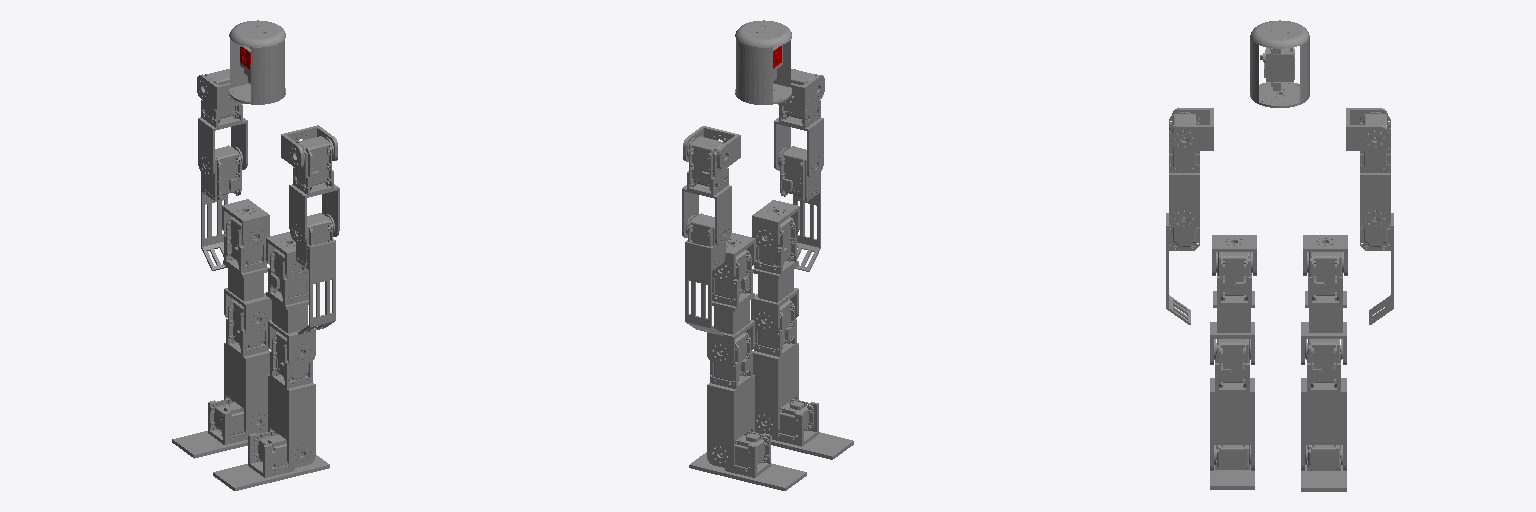
--- What the picture shows (computed from the rendered views, not written in the file) ---
Views: 3 orthographic renders of the robot side by side, from view 1: azimuth 30°, elevation 25°; view 2: azimuth 150°, elevation 25°; view 3: azimuth 270°, elevation 25°.
Model humanoid with 18 links and 17 joints (16 revolute, 1 fixed), rooted at base_link, posed every joint at zero.
Visible links, largest first — view 1: Left_Calf_Link, Right_Calf_Link, Head_Horizontal_Link, Right_Thigh_Link, Left_Thigh_Link, Left_Mid_Shoulder_Link, Left_Lower_Shoulder Link, Left_foot_Link, Right_Lower_Shoulder_link, Right_Mid_Shoulder_link, Right_Foot_Link, Right_Hip_Link (+3 smaller); view 2: Right_Calf_Link, Left_Calf_Link, Head_Horizontal_Link, Left_Thigh_Link, Right_Thigh_Link, Right_Mid_Shoulder_link, Right_Lower_Shoulder_link, Right_Foot_Link, Left_Lower_Shoulder Link, Left_foot_Link, Left_Mid_Shoulder_Link, Left_Hip_Link (+3 smaller); view 3: Right_Calf_Link, Left_Calf_Link, Right_Thigh_Link, Left_Thigh_Link, Head_Horizontal_Link, Left_Mid_Shoulder_Link, Right_Mid_Shoulder_link, Right_Foot_Link, Left_foot_Link, Left_Upper_Shoulder_link, Right_Upper_Shoulder_Link, Left_Lower_Shoulder Link (+4 smaller).
Boxes of the visible links, x1=… form: Left_Calf_Link: x1=268, y1=331, x2=315, y2=467; Right_Calf_Link: x1=224, y1=300, x2=269, y2=434; Head_Horizontal_Link: x1=229, y1=20, x2=285, y2=104; Right_Thigh_Link: x1=223, y1=216, x2=271, y2=333; Left_Thigh_Link: x1=266, y1=248, x2=315, y2=365; Left_Mid_Shoulder_Link: x1=289, y1=136, x2=339, y2=244; Left_Lower_Shoulder Link: x1=296, y1=213, x2=335, y2=334; Left_foot_Link: x1=213, y1=431, x2=329, y2=490; Right_Lower_Shoulder_link: x1=201, y1=145, x2=242, y2=270; Right_Mid_Shoulder_link: x1=198, y1=69, x2=247, y2=177; Right_Foot_Link: x1=172, y1=398, x2=259, y2=458; Right_Hip_Link: x1=222, y1=199, x2=269, y2=247; Right_Calf_Link: x1=707, y1=332, x2=754, y2=468; Left_Calf_Link: x1=753, y1=299, x2=798, y2=435; Head_Horizontal_Link: x1=735, y1=20, x2=791, y2=104; Left_Thigh_Link: x1=751, y1=217, x2=798, y2=333; Right_Thigh_Link: x1=707, y1=250, x2=754, y2=366; Right_Mid_Shoulder_link: x1=682, y1=136, x2=731, y2=245; Right_Lower_Shoulder_link: x1=685, y1=213, x2=725, y2=335; Right_Foot_Link: x1=689, y1=431, x2=806, y2=490; Left_Lower_Shoulder Link: x1=778, y1=146, x2=820, y2=271; Left_foot_Link: x1=755, y1=399, x2=853, y2=459; Left_Mid_Shoulder_Link: x1=774, y1=69, x2=823, y2=178; Left_Hip_Link: x1=752, y1=200, x2=799, y2=248; Right_Calf_Link: x1=1301, y1=339, x2=1346, y2=470; Left_Calf_Link: x1=1210, y1=339, x2=1254, y2=470; Right_Thigh_Link: x1=1301, y1=252, x2=1346, y2=364; Left_Thigh_Link: x1=1210, y1=252, x2=1254, y2=364; Head_Horizontal_Link: x1=1250, y1=20, x2=1309, y2=107; Left_Mid_Shoulder_Link: x1=1169, y1=112, x2=1199, y2=229; Right_Mid_Shoulder_link: x1=1360, y1=112, x2=1390, y2=229; Right_Foot_Link: x1=1301, y1=445, x2=1346, y2=491; Left_foot_Link: x1=1210, y1=445, x2=1254, y2=489; Left_Upper_Shoulder_link: x1=1172, y1=108, x2=1213, y2=150; Right_Upper_Shoulder_Link: x1=1346, y1=108, x2=1387, y2=150; Left_Lower_Shoulder Link: x1=1166, y1=210, x2=1199, y2=324.
Bounding box of the posed robot: 0.1501 × 0.2876 × 0.6137 m (x, y, z).
Meshes: 18 distinct files referenced, 17 mesh visuals loaded (17 binary STL); not drawn: 1 (reference not matched to a file when rendering).

The robot description file, URDF, robot "humanoid":
<?xml version="1.0" encoding="utf-8"?>


<robot name="humanoid">

<!-- gazebo materials -->

  <material name="black">
    <color rgba="0.0 0.0 0.0 1.0"/>
  </material>
  <material name="blue">
    <color rgba="0.0 0.0 0.8 1.0"/>
  </material>
  <material name="green">
    <color rgba="0.0 0.8 0.0 1.0"/>
  </material>
  <material name="grey">
    <color rgba="0.6 0.6 0.6 1.0"/>
  </material>
  <material name="orange">
    <color rgba="1.0 0.423529411765 0.0392156862745 1.0"/>
  </material>
  <material name="brown">
    <color rgba="0.870588235294 0.811764705882 0.764705882353 1.0"/>
  </material>
  <material name="red">
    <color rgba="0.8 0.0 0.0 1.0"/>
  </material>
  <material name="white">
    <color rgba="1.0 1.0 1.0 1.0"/>
  </material>

<!-- ros_control plugins -->

  <gazebo>
    <plugin name="gazebo_ros_control" filename="libgazebo_ros_control.so">
      <robotNamespace>/humanoid</robotNamespace> 
    </plugin> 
  </gazebo>

  <gazebo>
    <plugin filename="libgazebo_ros_p3d.so" name="ground_truth">
      <frameName>map</frameName>
      <bodyName>base_link</bodyName>
      <topicName>/humanoid/odom</topicName>
      <updateRate>100.0</updateRate>
    </plugin>
  </gazebo>

  <!-- World -->
  <gazebo reference="world"/>
  <!-- Map -->
  <gazebo reference="map"/>
  <!-- Base -->
  <gazebo reference="base_link"/>
  <!-- IMU -->
  <gazebo reference="imu_link"/>
  <!-- base -->
  <gazebo reference="base_link">
    <mu1>0.2</mu1>
    <mu2>0.2</mu2>
    <material>Gazebo/Grey</material>
    <selfCollide>false</selfCollide>
  </gazebo>

  <!-- Left Shoulder -->
  <gazebo reference="Left_Upper Shoulder_link">
    <mu1>0.2</mu1>
    <mu2>0.2</mu2>
    <material>Gazebo/Grey</material>
    <selfCollide>false</selfCollide>
  </gazebo>

  <gazebo reference="Left_Mid_Shoulder_Link">
    <mu1>0.2</mu1>
    <mu2>0.2</mu2>
    <material>Gazebo/Grey</material>
    <selfCollide>false</selfCollide>
  </gazebo>

  <gazebo reference="Left_Lower_Shoulder Link">
    <mu1>0.2</mu1>
    <mu2>0.2</mu2>
    <material>Gazebo/Grey</material>
    <selfCollide>false</selfCollide>
  </gazebo>

<!--Right Shoulder -->
  <gazebo reference="Right_Upper_Shoulder_Link">
    <mu1>0.2</mu1>
    <mu2>0.2</mu2>
    <material>Gazebo/Grey</material>
    <selfCollide>false</selfCollide>
  </gazebo>

  <gazebo reference="Right_Mid_Shoulder_link">
    <mu1>0.2</mu1>
    <mu2>0.2</mu2>
    <material>Gazebo/Grey</material>
    <selfCollide>false</selfCollide>
  </gazebo>

  <gazebo reference="Right_Lower_Shoulder_link">
    <mu1>0.2</mu1>
    <mu2>0.2</mu2>
    <material>Gazebo/Grey</material>
    <selfCollide>false</selfCollide>
  </gazebo>

<!--Right Leg -->
  <gazebo reference="Right_Hip_Link">
    <mu1>0.2</mu1>
    <mu2>0.2</mu2>
    <material>Gazebo/Grey</material>
    <selfCollide>false</selfCollide>
  </gazebo>

  <gazebo reference="Right_Thigh_Link">
    <mu1>0.2</mu1>
    <mu2>0.2</mu2>
    <material>Gazebo/Grey</material>
    <selfCollide>false</selfCollide>
  </gazebo>

  <gazebo reference="Right_Calf_Link Link">
    <mu1>0.2</mu1>
    <mu2>0.2</mu2>
    <material>Gazebo/Grey</material>
    <selfCollide>false</selfCollide>
  </gazebo>

  <gazebo reference="Right_Foot_Link">
    <kp>10000.0</kp>
    <kd>100.0</kd>
    <mu1>0.9</mu1>
    <mu2>0.9</mu2>
    <fdir1>1 1 0</fdir1>
    <maxVel>1.0</maxVel>
    <minDepth>0.0001</minDepth>
    <material>Gazebo/Blue</material>
  </gazebo>

<!-- Left Leg -->
  <gazebo reference="Left_Hip_Link">
    <mu1>0.2</mu1>
    <mu2>0.2</mu2>
    <material>Gazebo/Grey</material>
    <selfCollide>false</selfCollide>
  </gazebo>
  <gazebo reference="Left_Thigh_Link">
    <mu1>0.2</mu1>
    <mu2>0.2</mu2>
    <material>Gazebo/Grey</material>
    <selfCollide>false</selfCollide>
  </gazebo>
  <gazebo reference="Left_Calf_Link">
    <mu1>0.2</mu1>
    <mu2>0.2</mu2>
    <material>Gazebo/Grey</material>
    <selfCollide>false</selfCollide>
  </gazebo>
  <gazebo reference="Left_foot_Link">
    <kp>10000.0</kp>
    <kd>100.0</kd>
    <mu1>0.9</mu1>
    <mu2>0.9</mu2>
    <fdir1>1 1 0</fdir1>
    <maxVel>1.0</maxVel>
    <minDepth>0.0001</minDepth>
    <material>Gazebo/Blue</material>
  </gazebo>

<!-- head -->
  <gazebo reference="Head_Horizontal_Link">
    <mu1>0.2</mu1>
    <mu2>0.2</mu2>
    <material>Gazebo/Grey</material>
    <selfCollide>false</selfCollide>
  </gazebo>

  <gazebo reference="Head_Vertical_Link">
    <mu1>0.2</mu1>
    <mu2>0.2</mu2>
    <material>Gazebo/Grey</material>
    <selfCollide>false</selfCollide>
  </gazebo>


<!-- Base link -->
  <link
    name="base_link">
    <inertial>
      <origin xyz="0.0430324853400007 -0.000472436994687554 0.418875105300566" rpy="0 0 0" />
      <mass value="1.5156152965091" />
      <inertia
        ixx="0.00479971128253314"
        ixy="-1.53952738629959E-06"
        ixz="-0.000447300525972222"
        iyy="0.0034137294682176"
        iyz="-2.76941918796667E-06"
        izz="0.00294823153121814" />
    </inertial>
    <visual>
      <origin xyz="0 0 0" rpy="0 0 0" />
      <geometry>
        <mesh filename="package://humanoid_descripition/meshes/base_link.STL" />
      </geometry>
      <material name="grey"/>
    </visual>
    <collision>
      <origin
        xyz="0 0 0" rpy="0 0 0" />
      <geometry>
        <mesh filename="package://humanoid_descripition/meshes/base_link.STL" />
      </geometry>
    </collision>
  </link>
<!--Left upper shoulder link -->
  <link
    name="Left_Upper_Shoulder_link">
    <inertial>
      <origin xyz="-3.46944695195361E-18 -0.0155156048759658 -7.21644966006352E-16" rpy="0 0 0" />
      <mass value="0.0623876643494411" />
      <inertia ixx="2.27108792085224E-05" ixy="7.39334846754752E-21" ixz="-3.44731761197701E-21" iyy="3.90809536959519E-05" iyz="-1.53755655815756E-21"  izz="4.97719837636778E-05" />
    </inertial>
    <visual>
      <origin xyz="0 0 0" rpy="0 0 0" />
      <geometry>
        <mesh filename="package://humanoid_descripition/meshes/Left_Upper_Shoulder_link.STL" />
      </geometry>
      <material name="grey"/>
    </visual>
    <collision>
      <origin
        xyz="0 0 0" rpy="0 0 0" />
      <geometry>
        <mesh filename="package://humanoid_descripition/meshes/Left_Upper_Shoulder_link.STL" />
      </geometry>
    </collision>
  </link>

<!-- Left_Upper_Shoulder_Joint -->
  <joint
    name="Left_Upper_Shoulder_Joint" type="revolute">
    <origin xyz="0.045 -0.0862 0.48279"  rpy="0 0 0" />
    <parent link="base_link" />
    <child link="Left_Upper_Shoulder_link" />
    <axis xyz="0 -1 0" />
    <limit lower="-3.14" upper="3.14" effort="8.4" velocity="4.712" />
    <dynamics damping="0.1" friction="0.0"/>
  </joint>

<!-- Left_Upper_Shoulder_Transmission -->
  <transmission name="Left_Upper_Shoulder_transmission">
    <type>transmission_interface/SimpleTransmission</type>
    <joint name="Left_Upper_Shoulder_Joint">
      <hardwareInterface>hardware_interface/EffortJointInterface</hardwareInterface>
    </joint>
    <actuator name="Left_Upper_Shoulder_actuator">
      <hardwareInterface>hardware_interface/EffortJointInterface</hardwareInterface>
      <mechanicalReduction>1</mechanicalReduction>
    </actuator>
  </transmission>

  <link
    name="Left_Mid_Shoulder_Link">
    <inertial>
      <origin xyz="0.0264662969429448 4.09537062595611E-08 -0.0440571522217455" rpy="0 0 0" />
      <mass value="0.154300552543257" />
      <inertia
        ixx="7.07637535997255E-05"
        ixy="-5.19855697944797E-13"
        ixz="-2.88599141150469E-07"
        iyy="9.89041124781951E-05"
        iyz="2.76937890171708E-10"
        izz="6.2961859669379E-05" />
    </inertial>
    <visual>
      <origin xyz="0 0 0" rpy="0 0 0" />
      <geometry>
        <mesh filename="package://humanoid_descripition/meshes/Left_Mid_Shoulder_Link.STL" />
      </geometry>
      <material name="grey"/>
    </visual>
    <collision>
      <origin xyz="0 0 0" rpy="0 0 0" />
      <geometry>
        <mesh filename="package://humanoid_descripition/meshes/Left_Mid_Shoulder_Link.STL" />
      </geometry>
    </collision>
  </link>

<!-- Left_Mid_Shoulder_Joint -->
  <joint name="Left_Mid_Shoulder_Joint" type="revolute">
    <origin xyz="-0.026 -0.0345 0" rpy="0 0 0" />
    <parent link="Left_Upper_Shoulder_link" />
    <child link="Left_Mid_Shoulder_Link" />
    <axis xyz="1 0 0" />
    <limit lower="-3.14" upper="3.14" effort="6" velocity="6.59" />
  </joint>

<!-- Left Mid shoulder transmission -->
  <transmission name="Left_Mid_Shoulder_transmission">
    <type>transmission_interface/SimpleTransmission</type>
    <joint name="Left_Mid_Shoulder_Joint">
      <hardwareInterface>hardware_interface/EffortJointInterface</hardwareInterface>
    </joint>
    <actuator name="Left_Mid_Shoulder_actuator">
      <hardwareInterface>hardware_interface/EffortJointInterface</hardwareInterface>
      <mechanicalReduction>1</mechanicalReduction>
    </actuator>
  </transmission>

<!-- Left Lower Shoulder Link -->
  <link name="Left_Lower_Shoulder Link">
    <inertial>
      <origin xyz="0.0250664390388209 -0.00638333415263484 -0.0372443138205451" rpy="0 0 0" />
      <mass value="0.116130359952787" />
      <inertia
        ixx="0.000106554804819096"
        ixy="-5.19855704836473E-13"
        ixz="2.8859914115054E-07"
        iyy="0.000115041924032447"
        iyz="5.75846158471286E-06"
        izz="2.6449480887795E-05" />
    </inertial>
    <visual>
      <origin xyz="0 0 0" rpy="0 0 0" />
      <geometry>
        <mesh filename="package://humanoid_descripition/meshes/Left_Lower_Shoulder Link.STL" />
      </geometry>
      <material name="grey"/>
    </visual>
    <collision>
      <origin xyz="0 0 0" rpy="0 0 0" />
      <geometry>
        <mesh filename="package://humanoid_descripition/meshes/Left_Lower_Shoulder Link.STL" />
      </geometry>
    </collision>
  </link>

<!-- Left_Lower_Shoulder_Joint -->
  <joint name="Left_Lower_Shoulder_Joint" type="revolute">
    <origin xyz="0.00230000000000036 0 -0.111599999999999" rpy="0 0 0" />
    <parent link="Left_Mid_Shoulder_Link" />
    <child link="Left_Lower_Shoulder Link" />
    <axis xyz="1 0 0" />
    <limit lower="-3.14" upper="3.14" effort="6" velocity="6.59" />
  </joint>

<!-- Left_Lower_Shoulder_transmission-->
  <transmission name="Left_Lower_Shoulder_transmission">
    <type>transmission_interface/SimpleTransmission</type>
    <joint name="Left_Lower_Shoulder_Joint">
      <hardwareInterface>hardware_interface/EffortJointInterface</hardwareInterface>
    </joint>
    <actuator name="Left_Lower_Shoulder_actuator">
      <hardwareInterface>hardware_interface/EffortJointInterface</hardwareInterface>
      <mechanicalReduction>1</mechanicalReduction>
    </actuator>
  </transmission>
<!-- Right upper shoulder link -->
  <link name="Right_Upper_Shoulder_Link">
    <inertial>
      <origin xyz="-1.21430643318376E-17 0.015515604875966 -7.49400541621981E-16" rpy="0 0 0" />
      <mass value="0.0623876643494411" />
      <inertia
        ixx="2.27108792085224E-05"
        ixy="-1.28155332543922E-20"
        ixz="-1.24135449919456E-20"
        iyy="3.90809536959519E-05"
        iyz="-1.95476644554543E-22"
        izz="4.97719837636778E-05" />
    </inertial>
    <visual>
      <origin xyz="0 0 0" rpy="0 0 0" />
      <geometry>
        <mesh filename="package://humanoid_descripition/meshes/Right_Upper_Shoulder_Link.STL" />
      </geometry>
      <material name="grey"/>
    </visual>
    <collision>
      <origin xyz="0 0 0" rpy="0 0 0" />
      <geometry>
        <mesh filename="package://humanoid_descripition/meshes/Right_Upper_Shoulder_Link.STL" />
      </geometry>
    </collision>
  </link>

<!-- Right_Upper_Shoulder_Joint -->
  <joint name="Right_Upper_Shoulder_Joint" type="revolute">
    <origin xyz="0.045 0.0862000000000002 0.482793745640598" rpy="0 0 0" />
    <parent link="base_link" />
    <child link="Right_Upper_Shoulder_Link" />
    <axis xyz="0 1 0" />
    <limit lower="-3.14" upper="3.14" effort="8.4" velocity="4.712" />
  </joint>

<!-- Right_Upper_Shoulder_transmission -->
  <transmission name="Right_Upper_Shoulder_transmission">
    <type>transmission_interface/SimpleTransmission</type>
    <joint name="Right_Upper_Shoulder_Joint">
      <hardwareInterface>hardware_interface/EffortJointInterface</hardwareInterface>
    </joint>
    <actuator name="Right_Upper_Shoulder_actuator">
      <hardwareInterface>hardware_interface/EffortJointInterface</hardwareInterface>
      <mechanicalReduction>1</mechanicalReduction>
    </actuator>
  </transmission>
<!-- right mid shoulder link -->
  <link name="Right_Mid_Shoulder_link">
    <inertial>
      <origin xyz="0.0264662969429444 4.09537060375165E-08 -0.044057152221746" rpy="0 0 0" />
      <mass value="0.154300552543257" />
      <inertia
        ixx="7.07637535997256E-05"
        ixy="-5.19855694633109E-13"
        ixz="-2.88599141150464E-07"
        iyy="9.89041124781952E-05"
        iyz="2.76937890187698E-10"
        izz="6.29618596693791E-05" />
    </inertial>
    <visual>
      <origin xyz="0 0 0" rpy="0 0 0" />
      <geometry>
        <mesh filename="package://humanoid_descripition/meshes/Right_Mid_Shoulder_link.STL" />
      </geometry>
      <material
        name="grey"/>
    </visual>
    <collision>
      <origin xyz="0 0 0" rpy="0 0 0" />
      <geometry>
        <mesh filename="package://humanoid_descripition/meshes/Right_Mid_Shoulder_link.STL" />
      </geometry>
    </collision>
  </link>

<!-- Right_Mid_Shoulder_Joint -->
  <joint name="Right_Mid_Shoulder_Joint" type="revolute">
    <origin xyz="-0.026 0.0345 0" rpy="0 0 0" />
    <parent link="Right_Upper_Shoulder_Link" />
    <child link="Right_Mid_Shoulder_link" />
    <axis xyz="1 0 0" />
    <limit lower="-3.14" upper="3.14" effort="6" velocity="6.59" />
  </joint>

<!-- Right_Mid_Shoulder_transmission -->
  <transmission name="Right_Mid_Shoulder_transmission">
    <type>transmission_interface/SimpleTransmission</type>
    <joint name="Right_Mid_Shoulder_Joint">
      <hardwareInterface>hardware_interface/EffortJointInterface</hardwareInterface>
    </joint>
    <actuator name="Right_Mid_Shoulder_actuator">
      <hardwareInterface>hardware_interface/EffortJointInterface</hardwareInterface>
      <mechanicalReduction>1</mechanicalReduction>
    </actuator>
  </transmission>

<!-- Right Lower Shoulder -->
  <link
    name="Right_Lower_Shoulder_link">
    <inertial>
      <origin xyz="0.0250664390388211 0.00638333374995644 -0.0372443138205444" rpy="0 0 0" />
      <mass value="0.116130359952787" />
      <inertia
        ixx="0.000106554804819096"
        ixy="-5.19855699251492E-13"
        ixz="2.88599141150526E-07"
        iyy="0.000115041924032448"
        iyz="-5.75845724996921E-06"
        izz="2.64494808877951E-05" />
    </inertial>
    <visual>
      <origin xyz="0 0 0" rpy="0 0 0" />
      <geometry>
        <mesh filename="package://humanoid_descripition/meshes/Right_Lower_Shoulder_link.STL" />
      </geometry>
      <material name="grey"/>
    </visual>
    <collision>
      <origin xyz="0 0 0" rpy="0 0 0" />
      <geometry>
        <mesh filename="package://humanoid_descripition/meshes/Right_Lower_Shoulder_link.STL" />
      </geometry>
    </collision>
  </link>

<!-- Right_Lower_Shoulder_joint -->
  <joint name="Right_Lower_Shoulder_Joint" type="revolute">
    <origin xyz="0.00230000000000011 0 -0.1116" rpy="0 0 0" />
    <parent link="Right_Mid_Shoulder_link" />
    <child link="Right_Lower_Shoulder_link" />
    <axis xyz="1 0 0" />
    <limit lower="-3.14" upper="3.14" effort="6" velocity="6.59" />
  </joint>

<!-- Right_Lower_Shoulder_transmission -->
  <transmission name="Right_Lower_Shoulder_transmission">
    <type>transmission_interface/SimpleTransmission</type>
    <joint name="Right_Lower_Shoulder_Joint">
      <hardwareInterface>hardware_interface/EffortJointInterface</hardwareInterface>
    </joint>
    <actuator name="Right_Lower_Shoulder_actuator">
      <hardwareInterface>hardware_interface/EffortJointInterface</hardwareInterface>
      <mechanicalReduction>1</mechanicalReduction>
    </actuator>
  </transmission>

<!--Right Hip Link -->

  <link name="Right_Hip_Link">
    <inertial>
      <origin xyz="-1.90819582357449E-17 8.5868812060852E-17 -0.0108026519831324" rpy="0 0 0" />
      <mass value="0.0642422648022387" />
      <inertia
        ixx="4.229626009049E-05"
        ixy="-2.85610366578733E-21"
        ixz="-1.1809768368682E-20"
        iyy="1.91108022562779E-05"
        iyz="-6.6452799051975E-21"
        izz="4.09654383516233E-05" />
    </inertial>
    <visual>
      <origin xyz="0 0 0" rpy="0 0 0" />
      <geometry>
        <mesh filename="package://humanoid_descripition/meshes/Right_Hip_Link.STL" />
      </geometry>
      <material name="grey" />
    </visual>
    <collision>
      <origin xyz="0 0 0" rpy="0 0 0" />
      <geometry>
        <mesh filename="package://humanoid_descripition/meshes/Right_Hip_Link.STL" />
      </geometry>
    </collision>
  </link>

<!-- Right_Hip_Joint -->
  <joint name="Right_Hip_Joint" type="revolute">
    <origin xyz="0.045 0.0576361191366068 0.323180000000002" rpy="0 0 0" />
    <parent link="base_link" />
    <child link="Right_Hip_Link" />
    <axis xyz="0 0 1" />
    <limit lower="-3.14" upper="3.14" effort="8.4" velocity="4.712" />
  </joint>

<!-- Right_Hip_Joint_transmission -->
  <transmission name="Right_Hip_Joint_transmission">
    <type>transmission_interface/SimpleTransmission</type>
    <joint name="Right_Hip_Joint">
      <hardwareInterface>hardware_interface/EffortJointInterface</hardwareInterface>
    </joint>
    <actuator name="Right_Hip_Joint_motor">
      <hardwareInterface>hardware_interface/EffortJointInterface</hardwareInterface>
      <mechanicalReduction>1</mechanicalReduction>
    </actuator>
  </transmission>
<!-- Right Thigh Link -->
  <link name="Right_Thigh_Link">
    <inertial>
      <origin xyz="0.000423342095901284 -0.026447064925249 -0.0636339184538543" rpy="0 0 0" />
      <mass value="0.329164377734902" />
      <inertia
        ixx="0.000243462631907648"
        ixy="2.02833424750188E-07"
        ixz="4.17202887012631E-06"
        iyy="0.000198542286401605"
        iyz="-4.45660040213608E-06"
        izz="0.000113461408846216" />
    </inertial>
    <visual>
      <origin xyz="0 0 0" rpy="0 0 0" />
      <geometry>
        <mesh filename="package://humanoid_descripition/meshes/Right_Thigh_Link.STL" />
      </geometry>
      <material name="grey"/>
    </visual>
    <collision>
      <origin xyz="0 0 0" rpy="0 0 0" />
      <geometry>
        <mesh filename="package://humanoid_descripition/meshes/Right_Thigh_Link.STL" />
      </geometry>
    </collision>
  </link>

<!-- Right_Thigh_Joint -->
  <joint name="Right_Thigh_Joint" type="revolute">
    <origin xyz="0 0.026 -0.025" rpy="0 0 0" />
    <parent link="Right_Hip_Link" />
    <child link="Right_Thigh_Link" />
    <axis xyz="0 1 0" />
    <limit lower="-3.14" upper="3.14" effort="6" velocity="6.59" />
  </joint>

<!-- Right_Thigh_Joint_transmission -->
  <transmission name="Right_Thigh_Joint_transmission">
    <type>transmission_interface/SimpleTransmission</type>
    <joint name="Right_Thigh_Joint">
      <hardwareInterface>hardware_interface/EffortJointInterface</hardwareInterface>
    </joint>
    <actuator name="Right_Thigh_Joint_motor">
      <hardwareInterface>hardware_interface/EffortJointInterface</hardwareInterface>
      <mechanicalReduction>1</mechanicalReduction>
    </actuator>
  </transmission>

<!-- Right Calf Link -->

  <link name="Right_Calf_Link">
    <inertial>
      <origin xyz="-3.34420367410423E-07 -0.026027708615202 -0.0719996537867291" rpy="0 0 0" />
      <mass value="0.278454532534902" />
      <inertia
        ixx="0.000388064654467613"
        ixy="5.19855683036761E-13"
        ixz="5.41021302044064E-09"
        iyy="0.00033610996778635"
        iyz="-2.88599141150599E-07"
        izz="0.00014525331851066" />
    </inertial>
    <visual>
      <origin xyz="0 0 0" rpy="0 0 0" />
      <geometry>
        <mesh filename="package://humanoid_descripition/meshes/Right_Calf_Link.STL" />
      </geometry>
      <material name="grey"/>
    </visual>
    <collision>
      <origin xyz="0 0 0" rpy="0 0 0" />
      <geometry>
        <mesh filename="package://humanoid_descripition/meshes/Right_Calf_Link.STL" />
      </geometry>
    </collision>
  </link>

<!-- Right_Calf_Joint -->
  <joint name="Right_Calf_Joint" type="revolute">
    <origin xyz="0.002 -0.002 -0.12045" rpy="0 0 0" />
    <parent link="Right_Thigh_Link" />
    <child link="Right_Calf_Link" />
    <axis xyz="0 -1 0" />
    <limit lower="-3.14" upper="3.14" effort="6" velocity="6.59" />
  </joint>

<!-- Right_Calf_Joint_transmission -->
  <transmission name="Right_Calf_Joint_transmission">
    <type>transmission_interface/SimpleTransmission</type>
    <joint name="Right_Calf_Joint">
      <hardwareInterface>hardware_interface/EffortJointInterface</hardwareInterface>
    </joint>
    <actuator name="Right_Calf_Joint_motor">
      <hardwareInterface>hardware_interface/EffortJointInterface</hardwareInterface>
      <mechanicalReduction>1</mechanicalReduction>
    </actuator>
  </transmission>
<!-- Right Foot Link -->

  <link name="Right_Foot_Link">
    <inertial>
      <origin xyz="-0.0228837014877897 -0.026033712987681 -0.0155273675416017" rpy="0 0 0" />
      <mass value="0.228265252831077" />
      <inertia
        ixx="6.37874197438039E-05"
        ixy="-2.88491769040962E-07"
        ixz="7.76246022841811E-06"
        iyy="0.000236185068163753"
        iyz="-2.63248093227894E-09"
        izz="0.000274017281441223" />
    </inertial>
    <visual>
      <origin xyz="0 0 0"  rpy="0 0 0" />
      <geometry>
        <mesh filename="package://humanoid_descripition/meshes/Right_Foot_Link.STL" />
      </geometry>
      <material name="grey"/>
    </visual>
    <collision>
      <origin xyz="0 0 0" rpy="0 0 0" />
      <geometry>
        <mesh filename="package://humanoid_descripition/meshes/Right_Foot_Link.STL" />
      </geometry>
    </collision>
  </link>

<!-- Right_Foot_Joint -->
  <joint name="Right_Foot_Joint" type="revolute">
    <origin xyz="0 0 -0.14763" rpy="0 0 0" />
    <parent link="Right_Calf_Link" />
    <child link="Right_Foot_Link" />
    <axis xyz="0 1 0" />
    <limit lower="-3.14" upper="3.14" effort="6" velocity="6.59" />
  </joint>

<!-- Right_Foot_Joint_transmission -->
  <transmission name="Right_Foot_Joint_transmission">
    <type>transmission_interface/SimpleTransmission</type>
    <joint name="Right_Foot_Joint">
      <hardwareInterface>hardware_interface/EffortJointInterface</hardwareInterface>
    </joint>
    <actuator name="Right_Foot_Joint_motor">
      <hardwareInterface>hardware_interface/EffortJointInterface</hardwareInterface>
      <mechanicalReduction>1</mechanicalReduction>
    </actuator>
  </transmission>
<!-- Left Hip Link -->
  <link name="Left_Hip_Link">
    <inertial>
      <origin xyz="-1.21430643318376E-17 1.38777878078145E-17 -0.0108026519831324" rpy="0 0 0" />
      <mass value="0.0642422648022388" />
      <inertia
        ixx="4.22962600904901E-05"
        ixy="-2.93588493303712E-21"
        ixz="-1.50763911535534E-20"
        iyy="1.9110802256278E-05"
        iyz="-3.29932625471404E-20"
        izz="4.09654383516233E-05" />
    </inertial>
    <visual>
      <origin xyz="0 0 0" rpy="0 0 0" />
      <geometry>
        <mesh filename="package://humanoid_descripition/meshes/Left_Hip_Link.STL" />
      </geometry>
      <material name="grey"/>
    </visual>
    <collision>
      <origin xyz="0 0 0" rpy="0 0 0" />
      <geometry>
        <mesh filename="package://humanoid_descripition/meshes/Left_Hip_Link.STL" />
      </geometry>
    </collision>
  </link>

<!-- Left_Hip_Joint -->
  <joint name="Left_Hip_Joint" type="revolute">
    <origin xyz="0.045 -0.0576361191366066 0.323180000000002" rpy="0 0 0" />
    <parent link="base_link" />
    <child link="Left_Hip_Link" />
    <axis xyz="0 0 1" />
    <limit lower="-3.14" upper="3.14" effort="8.4" velocity="4.712" />
  </joint>

<!-- Left_Hip_Joint_transmission -->
  <transmission name="Left_Hip_Joint_transmission">
    <type>transmission_interface/SimpleTransmission</type>
    <joint name="Left_Hip_Joint">
      <hardwareInterface>hardware_interface/EffortJointInterface</hardwareInterface>
    </joint>
    <actuator name="Left_Hip_Joint_motor">
      <hardwareInterface>hardware_interface/EffortJointInterface</hardwareInterface>
      <mechanicalReduction>1</mechanicalReduction>
    </actuator>
  </transmission>

<!-- Left Thigh Link -->
  <link name="Left_Thigh_Link">
    <inertial>
      <origin xyz="0.000345721545497979 0.0255998149318385 -0.0636339184538543" rpy="0 0 0" />
      <mass value="0.329164377734902" />
      <inertia
        ixx="0.000243462631907648"
        ixy="2.02833424750158E-07"
        ixz="4.17202453538254E-06"
        iyy="0.000198542286401605"
        iyz="-3.87940211983504E-06"
        izz="0.000113461408846216" />
    </inertial>
    <visual>
      <origin xyz="0 0 0" rpy="0 0 0" />
      <geometry>
        <mesh filename="package://humanoid_descripition/meshes/Left_Thigh_Link.STL" />
      </geometry>
      <material name="grey"/>
    </visual>
    <collision>
      <origin xyz="0 0 0" rpy="0 0 0" />
      <geometry>
        <mesh filename="package://humanoid_descripition/meshes/Left_Thigh_Link.STL" />
      </geometry>
    </collision>
  </link>

<!-- Left_Thigh_joint -->
  <joint name="Left_Thigh_joint" type="revolute">
    <origin xyz="0 -0.026 -0.025" rpy="0 0 0" />
    <parent link="Left_Hip_Link" />
    <child link="Left_Thigh_Link" />
    <axis xyz="0 1 0" />
    <limit lower="-3.14" upper="3.14" effort="6" velocity="6.59" />
  </joint>

<!-- Left_Thigh_joint_transmission -->
  <transmission name="Left_Thigh_joint_transmission">
    <type>transmission_interface/SimpleTransmission</type>
    <joint name="Left_Thigh_joint">
      <hardwareInterface>hardware_interface/EffortJointInterface</hardwareInterface>
    </joint>
    <actuator name="Left_Thigh_joint_motor">
      <hardwareInterface>hardware_interface/EffortJointInterface</hardwareInterface>
      <mechanicalReduction>1</mechanicalReduction>
    </actuator>
  </transmission>

  <link name="Left_Calf_Link">
    <inertial>
      <origin xyz="-3.34420367405219E-07 0.0259722913847975 -0.0719996537867291" rpy="0 0 0" />
      <mass value="0.278454532534902" />
      <inertia
        ixx="0.000388064654467613"
        ixy="5.19855688294565E-13"
        ixz="5.41021302046885E-09"
        iyy="0.00033610996778635"
        iyz="-2.88599141150536E-07"
        izz="0.00014525331851066" />
    </inertial>
    <visual>
      <origin xyz="0 0 0" rpy="0 0 0" />
      <geometry>
        <mesh filename="package://humanoid_descripition/meshes/Left_Calf_Link.STL" />
      </geometry>
      <material name="grey"/>
    </visual>
    <collision>
      <origin xyz="0 0 0" rpy="0 0 0" />
      <geometry>
        <mesh filename="package://humanoid_descripition/meshes/Left_Calf_Link.STL" />
      </geometry>
    </collision>
  </link>

<!-- Left_Calf_Joint -->
  <joint name="Left_Calf_Joint" type="revolute">
    <origin xyz="0.00190000000000006 -0.00199999999999997 -0.12045" rpy="0 0 0" />
    <parent link="Left_Thigh_Link" />
    <child link="Left_Calf_Link" />
    <axis xyz="0 1 0" />
    <limit lower="-3.14" upper="3.14" effort="6" velocity="6.59" />
  </joint>

<!-- Left_Calf_Joint_transmission -->
  <transmission name="Left_Calf_Joint_transmission">
    <type>transmission_interface/SimpleTransmission</type>
    <joint name="Left_Calf_Joint">
      <hardwareInterface>hardware_interface/EffortJointInterface</hardwareInterface>
    </joint>
    <actuator name="Left_Calf_Joint_motor">
      <hardwareInterface>hardware_interface/EffortJointInterface</hardwareInterface>
      <mechanicalReduction>1</mechanicalReduction>
    </actuator>
  </transmission>

<!-- left foot link -->
  <link name="Left_foot_Link">
    <inertial>
      <origin xyz="-0.0262701178208457 0.0259662870152242 -0.0155273676418208" rpy="0 0 0" />
      <mass value="0.22826527251043" />
      <inertia
        ixx="6.37874230678566E-05"
        ixy="-2.88491768747918E-07"
        ixz="7.76245967268685E-06"
        iyy="0.000236185196776109"
        iyz="-2.6324809009678E-09"
        izz="0.000274017413123349" />
    </inertial>
    <visual>
      <origin xyz="0 0 0" rpy="0 0 0" />
      <geometry>
        <mesh filename="package://humanoid_descripition/meshes/Left_foot_Link.STL" />
      </geometry>
      <material name="grey"/>
    </visual>
    <collision>
      <origin xyz="0 0 0" rpy="0 0 0" />
      <geometry>
        <mesh filename="package://humanoid_descripition/meshes/Left_foot_Link.STL" />
      </geometry>
    </collision>
  </link>

<!-- Left_foot_Joint -->
  <joint name="Left_foot_Joint" type="revolute">
    <origin xyz="0 0 -0.14763" rpy="0 0 0" />
    <parent link="Left_Calf_Link" />
    <child link="Left_foot_Link" />
    <axis xyz="0 1 0" />
    <limit lower="-3.14" upper="3.14" effort="6" velocity="6.59" />
  </joint>

<!-- Left_foot_Joint_transmission -->
 <transmission name="Left_foot_Joint_transmission">
    <type>transmission_interface/SimpleTransmission</type>
    <joint name="Left_foot_Joint">
      <hardwareInterface>hardware_interface/EffortJointInterface</hardwareInterface>
    </joint>
    <actuator name="Left_foot_Joint_motor">
      <hardwareInterface>hardware_interface/EffortJointInterface</hardwareInterface>
      <mechanicalReduction>1</mechanicalReduction>
    </actuator>
  </transmission>

<!-- Head Horizontal -->
  <link name="Head_Horizontal_Link">
    <inertial>
      <origin xyz="-7.84676299232095E-06 0.00200378386470303 0.0485306889790276" rpy="0 0 0" />
      <mass value="0.304581604639682" />
      <inertia
        ixx="0.000344223992822679"
        ixy="3.23416736024759E-08"
        ixz="2.14300139927456E-08"
        iyy="0.00025250434561587"
        iyz="1.03645901492193E-05"
        izz="0.000226309827320736" />
    </inertial>
    <visual>
      <origin xyz="0 0 0" rpy="0 0 0" />
      <geometry>
        <mesh filename="package://humanoid_descripition/meshes/Head_Horizontal_Link.STL" />
      </geometry>
      <material name="grey"/>
    </visual>
    <collision>
      <origin xyz="0 0 0" rpy="0 0 0" />
      <geometry>
        <mesh filename="package://humanoid_descripition/meshes/Head_Horizontal_Link.STL" />
      </geometry>
    </collision>
  </link>

<!-- Head_Horizontal_Joint -->
  <joint name="Head_Horizontal_Joint" type="revolute">
    <origin xyz="0.0299 0 0.524230000000002" rpy="0 0 0" />
    <parent link="base_link" />
    <child link="Head_Horizontal_Link" />
    <axis xyz="0 0 1" />
    <limit lower="-3.14" upper="3.14" effort="1.078" velocity="6.159" />
  </joint>

<!-- Head_Horizontal_transmission -->
  <transmission name="Head_Horizontal_transmission">
    <type>transmission_interface/SimpleTransmission</type>
    <joint name="Head_Horizontal_Joint">
      <hardwareInterface>hardware_interface/EffortJointInterface</hardwareInterface>
    </joint>
    <actuator name="Head_Horizontal_actuator">
      <hardwareInterface>hardware_interface/EffortJointInterface</hardwareInterface>
      <mechanicalReduction>1</mechanicalReduction>
    </actuator>
  </transmission>

<!-- Head Vertical Link -->
  <link name="Head_Vertical_Link">
    <inertial>
      <origin xyz="-0.00797403135381314 0.0257820432407305 -0.00633555775851055" rpy="0 0 0" />
      <mass value="0.0336929106124403" />
      <inertia
        ixx="1.23288476738391E-05"
        ixy="1.61107638845834E-07"
        ixz="7.16221856208835E-07"
        iyy="1.33519522742047E-05"
        iyz="-1.33901765257804E-07"
        izz="3.28226792350189E-06" />
    </inertial>
    <visual>
      <origin xyz="0 0 0" rpy="0 0 0" />
      <geometry>
        <mesh filename="package://humanoid_descripition/meshes/Head_Vertical_Link.STL" />
      </geometry>
      <material name="grey"/>
    </visual>
    <collision>
      <origin xyz="0 0 0" rpy="0 0 0" />
      <geometry>
        <mesh filename="package://humanoid_descripition/meshes/Head_Vertical_Link.STL" />
      </geometry>
    </collision>
  </link>

<!-- Head_Vertical_Joint -->
  <joint name="Head_Vertical_Joint" type="revolute">
    <origin xyz="4.2275E-05 -0.0285 0.0515" rpy="0 0 0" />
    <parent link="Head_Horizontal_Link" />
    <child link="Head_Vertical_Link" />
    <axis xyz="0 0 1" />
    <limit lower="-3.14" upper="3.14" effort="1.078" velocity="6.159" />
  </joint>

<!-- Head_Vertical_transmission -->
  <transmission name="Head_Vertical_transmission">
    <type>transmission_interface/SimpleTransmission</type>
    <joint name="Head_Vertical_Joint">
      <hardwareInterface>hardware_interface/EffortJointInterface</hardwareInterface>
    </joint>
    <actuator name="Head_Vertical_actuator">
      <hardwareInterface>hardware_interface/EffortJointInterface</hardwareInterface>
      <mechanicalReduction>1</mechanicalReduction>
    </actuator>
  </transmission>
<!-- Camera joint -->
  <joint name="camera_joint" type="fixed">
    <parent link="Head_Vertical_Link"/>
    <child link="camera_link"/>
    <origin xyz="0 0 0" rpy="0 0 0"/>
    </joint>
<!-- Camera link -->

  <link name="camera_link">
    <inertial>
      <origin
        xyz="0.00231726689772121 0.0817655312935915 -0.146049012146872"
        rpy="0 0 0" />
      <mass value="0" />
      <inertia
        ixx="0"
        ixy="0"
        ixz="0"
        iyy="0"
        iyz="0"
        izz="0" />
    </inertial>
    <visual>
    <origin xyz="0 0 0" rpy="0 0 0" />
     <geometry>
       <mesh filename="package://humanoid_descripition/meshes/Camera.STL" />
     </geometry>
     <material name="red"/>
    </visual>
  </link>
</robot>
